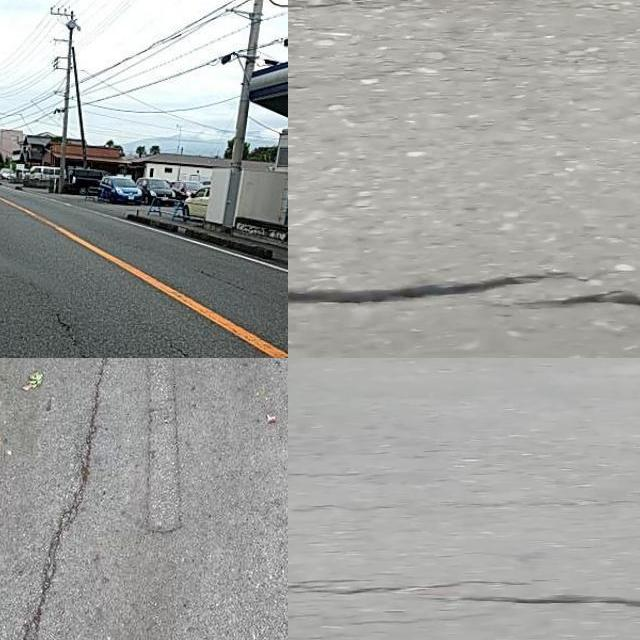Melintang: (288, 259, 640, 325), (288, 570, 640, 622)
Memanjang: (6, 358, 115, 640), (43, 306, 104, 358)
